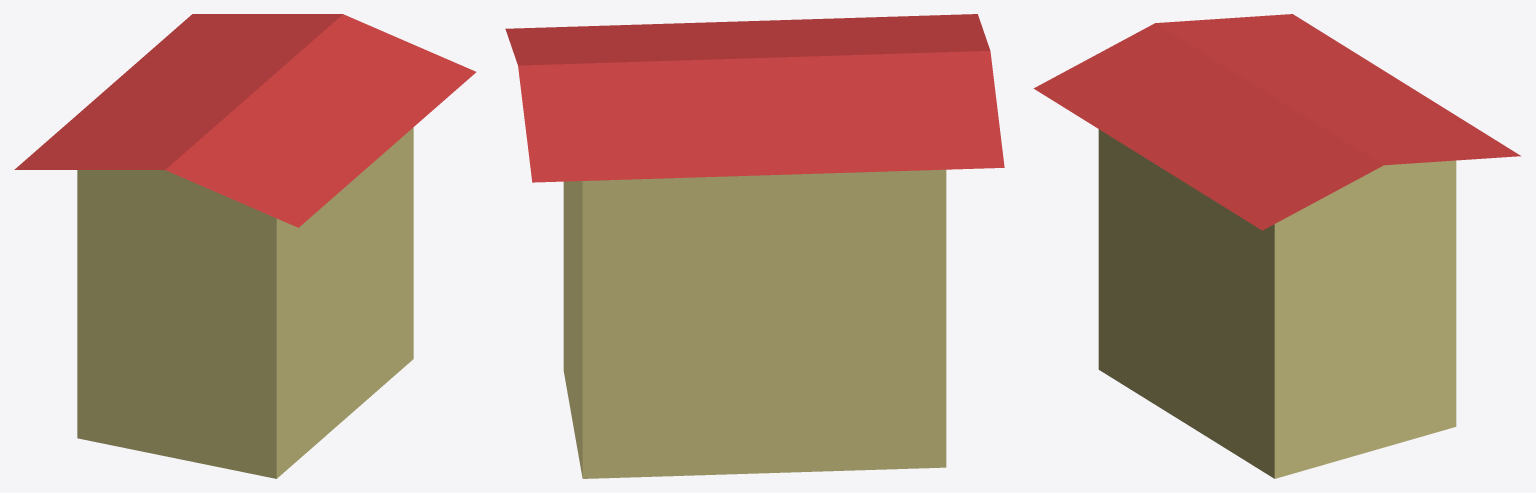
3 views of the same model, side by side, from view 1: azimuth 30°, elevation 25°; view 2: azimuth 150°, elevation 25°; view 3: azimuth 270°, elevation 25° (orthographic). The views are drawn at different scales.
Size of the model in its own units: 8.21 by 7.81 by 5.41.
